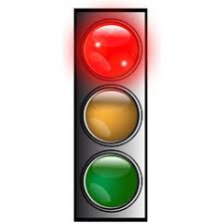semaforo: (73, 8, 147, 222)
